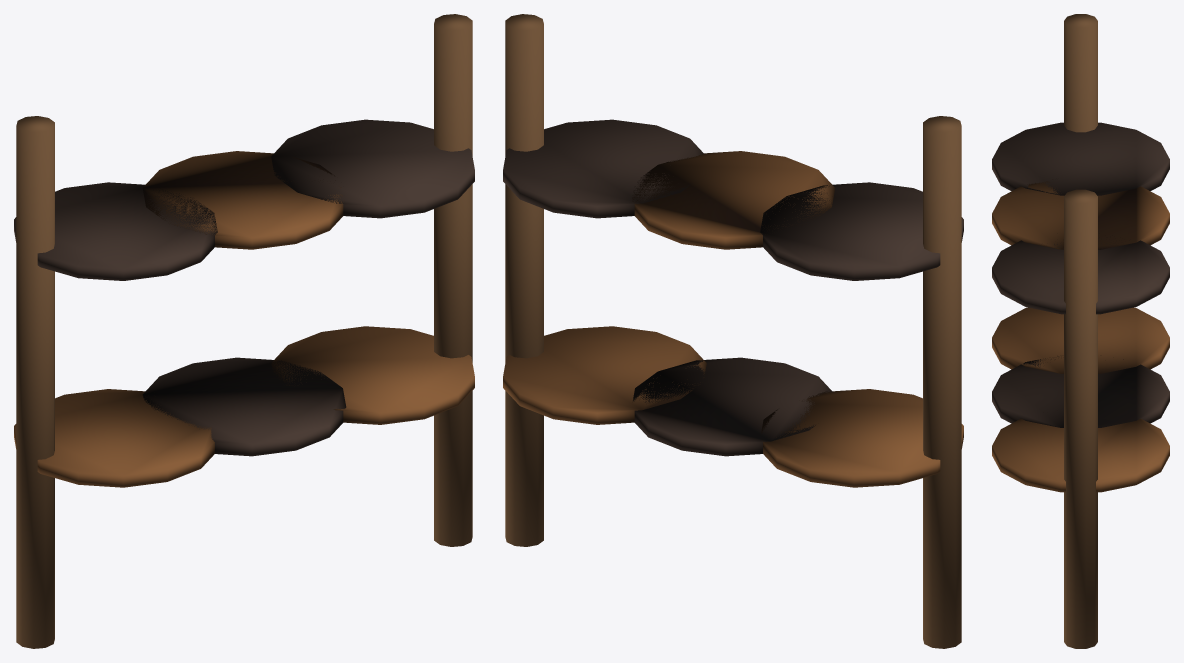
The model's file is prop_shelf_barrel.glb.
3 views of the same model, side by side, from view 1: azimuth 30°, elevation 25°; view 2: azimuth 150°, elevation 25°; view 3: azimuth 270°, elevation 25° (orthographic). The views are drawn at different scales.
Visible parts, largest first — view 1: prop_shelf_barrel; view 2: prop_shelf_barrel; view 3: prop_shelf_barrel.
Part boxes in pixels (<box>): prop_shelf_barrel: <box>14,14,474,648</box>; prop_shelf_barrel: <box>503,14,963,648</box>; prop_shelf_barrel: <box>992,14,1169,648</box>.
Bounding box in the file's own units: 1.19 × 1.3 × 0.47.
